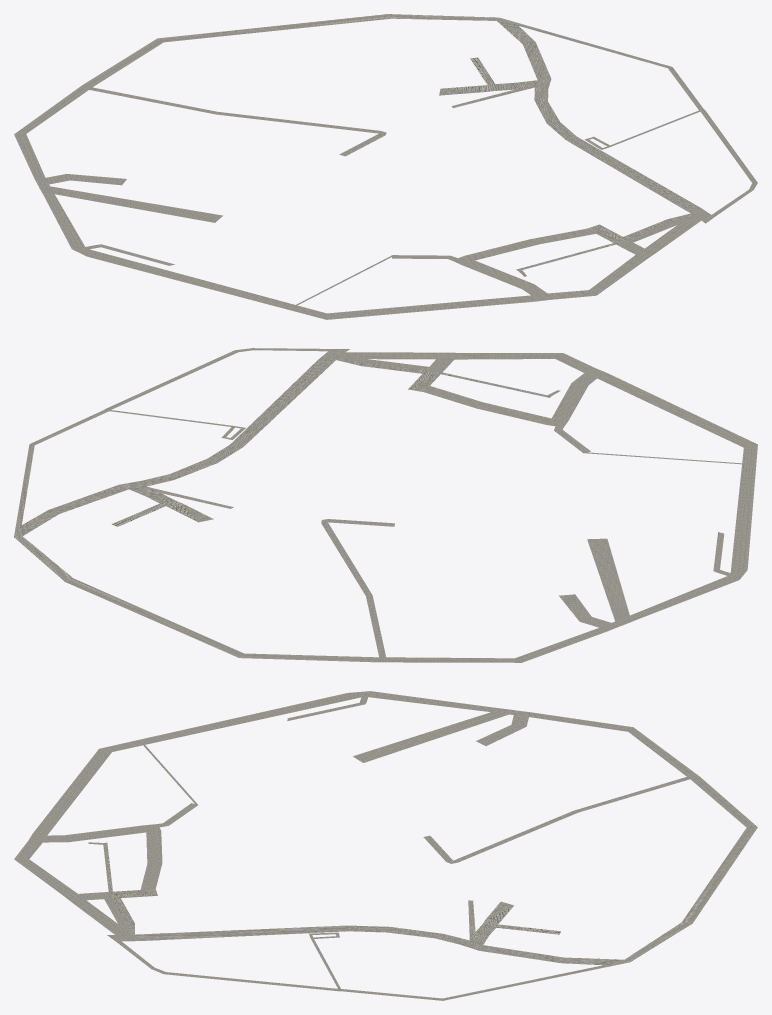
File: estrada.gltf
The picture shows the model from 3 angles, top to bottom: view 1: azimuth 30°, elevation 25°; view 2: azimuth 150°, elevation 25°; view 3: azimuth 270°, elevation 25°; orthographic projection. The views are drawn at different scales.
Visible parts, largest first — view 1: estrada; view 2: estrada; view 3: estrada.
Boxes of the visible parts, bbox=[...] form: estrada: bbox=[14, 14, 757, 319]; estrada: bbox=[14, 348, 757, 662]; estrada: bbox=[14, 691, 757, 1000].
Bounding box in the file's own units: 262 × 0 × 266.
1 material, 1 textured.
